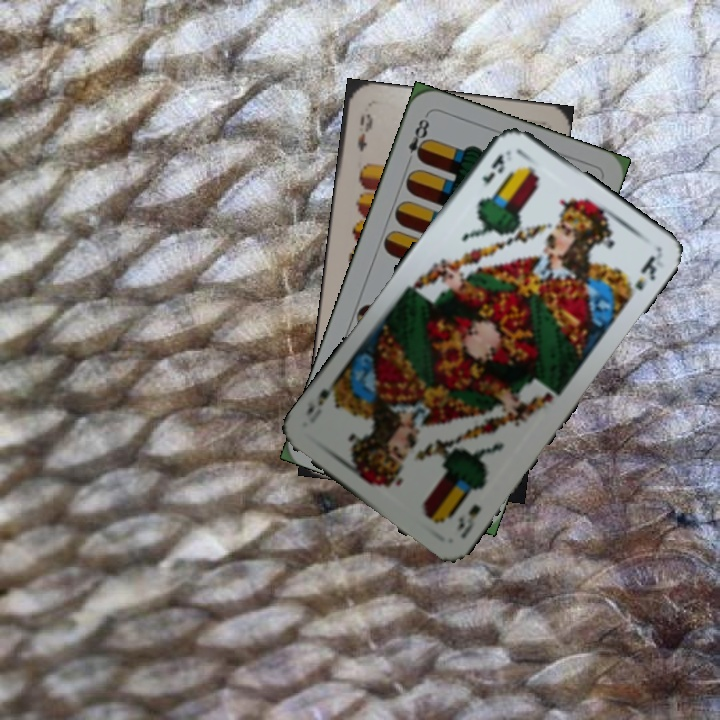E8: (402, 111, 432, 168)
E9: (353, 110, 376, 154)
EK: (477, 146, 515, 187), (452, 500, 484, 542)
